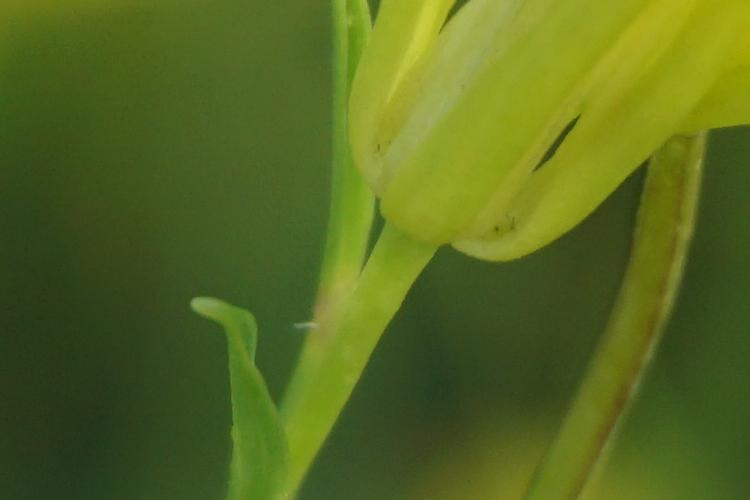yellow: (347, 11, 714, 256)
